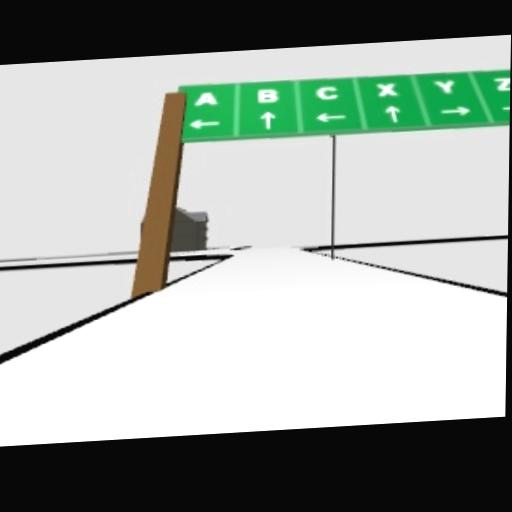A: (194, 90, 217, 106)
B: (256, 87, 279, 103)
C: (314, 83, 338, 100)
Left: (188, 116, 220, 129), (313, 110, 345, 122)
Right: (440, 105, 470, 117), (502, 104, 510, 110)
Straight: (259, 109, 277, 129), (384, 104, 400, 123)
X: (376, 82, 397, 96)
Y: (433, 78, 456, 95)
Z: (492, 77, 510, 91)
